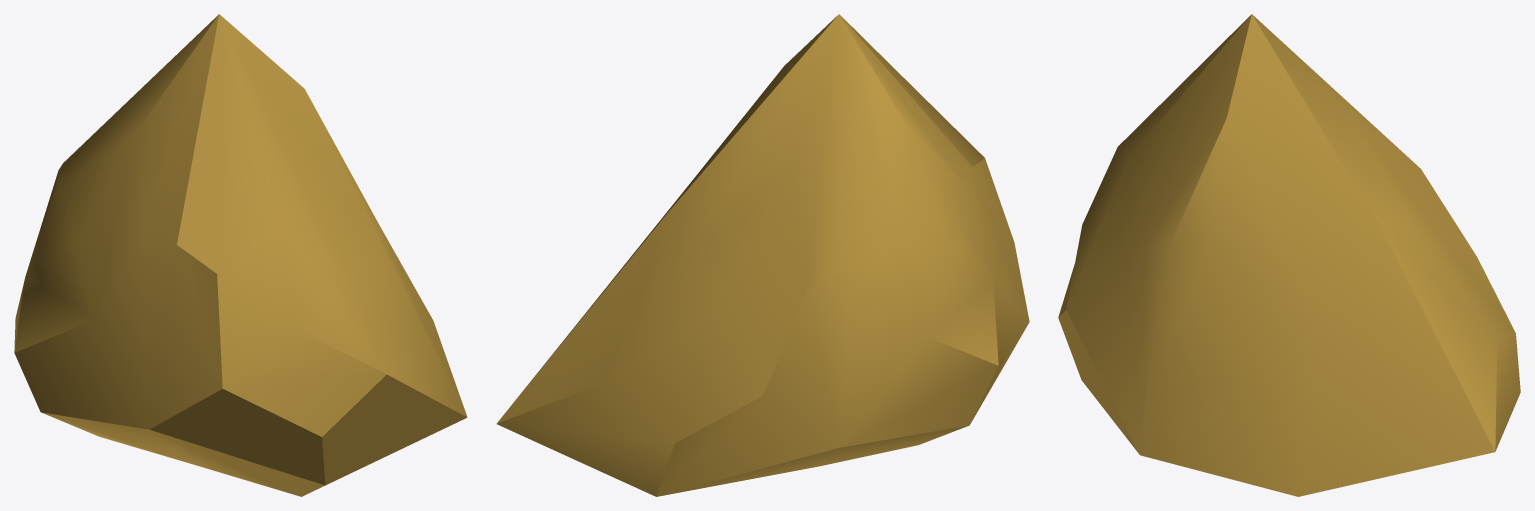
File: rock4.fbx
3 renders of one model, left to right at view 1: azimuth 30°, elevation 25°; view 2: azimuth 150°, elevation 25°; view 3: azimuth 270°, elevation 25°, orthographic. The views are drawn at different scales.
Visible parts, largest first — view 1: rock4; view 2: rock4; view 3: rock4.
Boxes of the visible parts, x1,y1,x2,y2 form: rock4: (14,14,467,496); rock4: (496,14,1029,496); rock4: (1058,14,1520,496).
Size of the model in its own units: 1.5 by 1.55 by 1.61.
